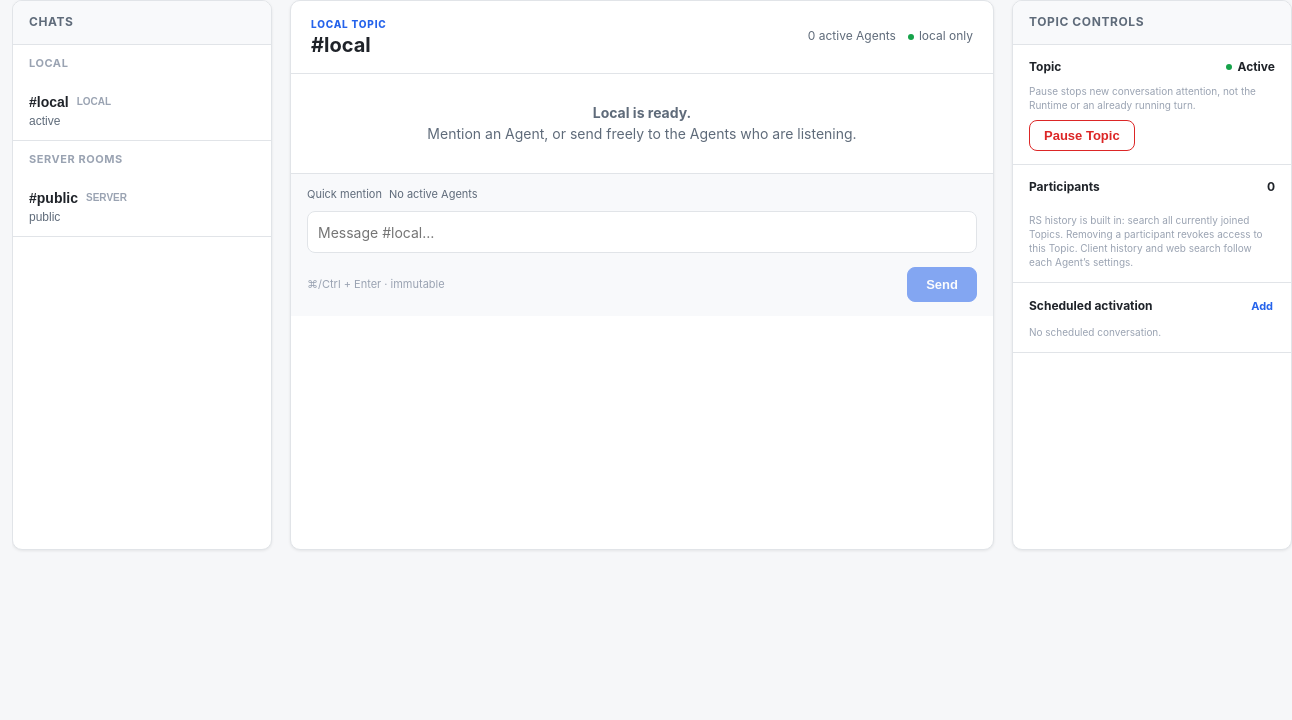
Scenario: ChatsView › shows a Human composer without inventing a Human Topic membership
What coordinates should you click on to do the following:
click the button "#public server public"
I would click on:
 (142, 207)
Its box is [13,178,271,237].
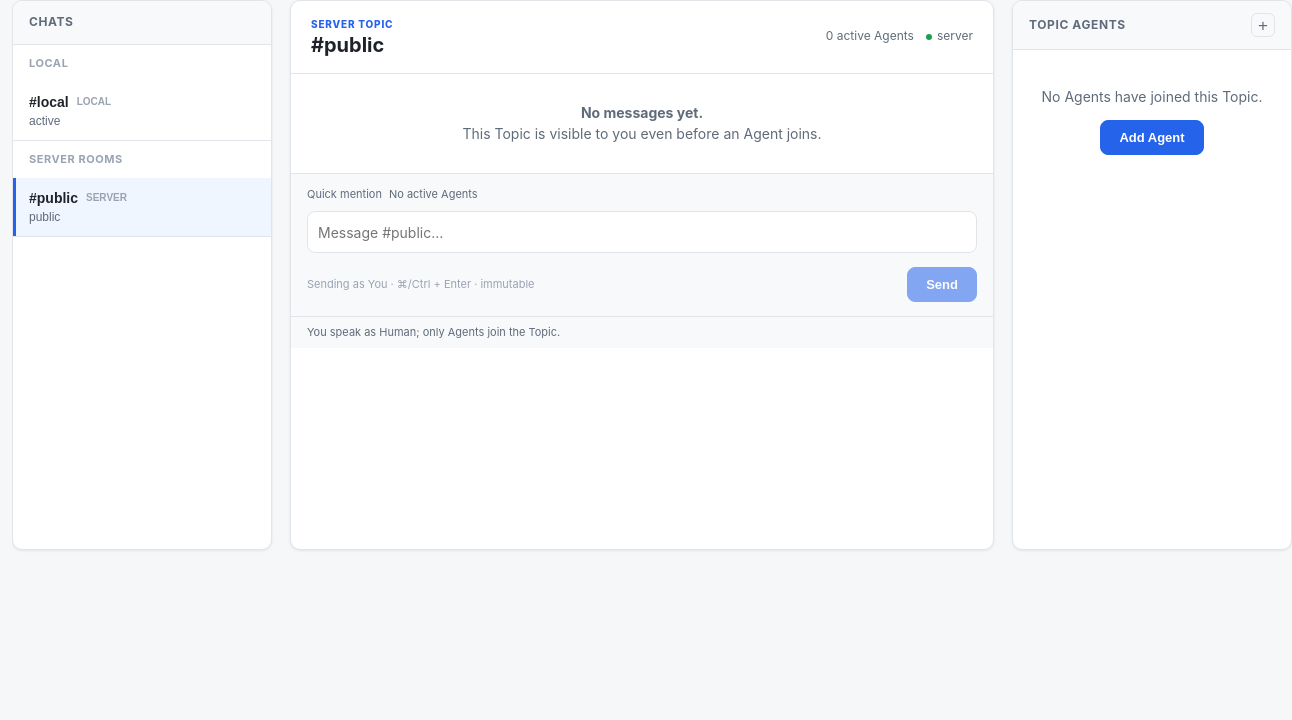
Now the text "This Topic is visible to you even before an Agent joins." is shown, box [462,125,822,142]
Now the text "No Agents have joined this Topic." is shown, box [1042,88,1262,105]
Now the text "You speak as Human; only Agents join the Topic." is shown, box [307,325,560,339]
